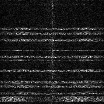wifi: (1, 79, 104, 84), (1, 83, 104, 88), (1, 31, 104, 36), (1, 96, 104, 101), (1, 38, 104, 42), (1, 26, 104, 30), (1, 68, 104, 72), (1, 55, 104, 59), (1, 91, 104, 94), (1, 49, 104, 51), (1, 59, 104, 61)
